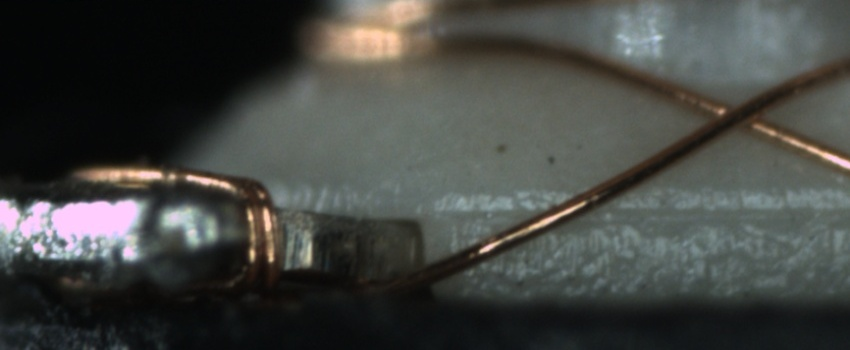CL: (693, 84, 785, 142)
DL: (444, 182, 850, 234)
TE: (66, 156, 314, 302)
